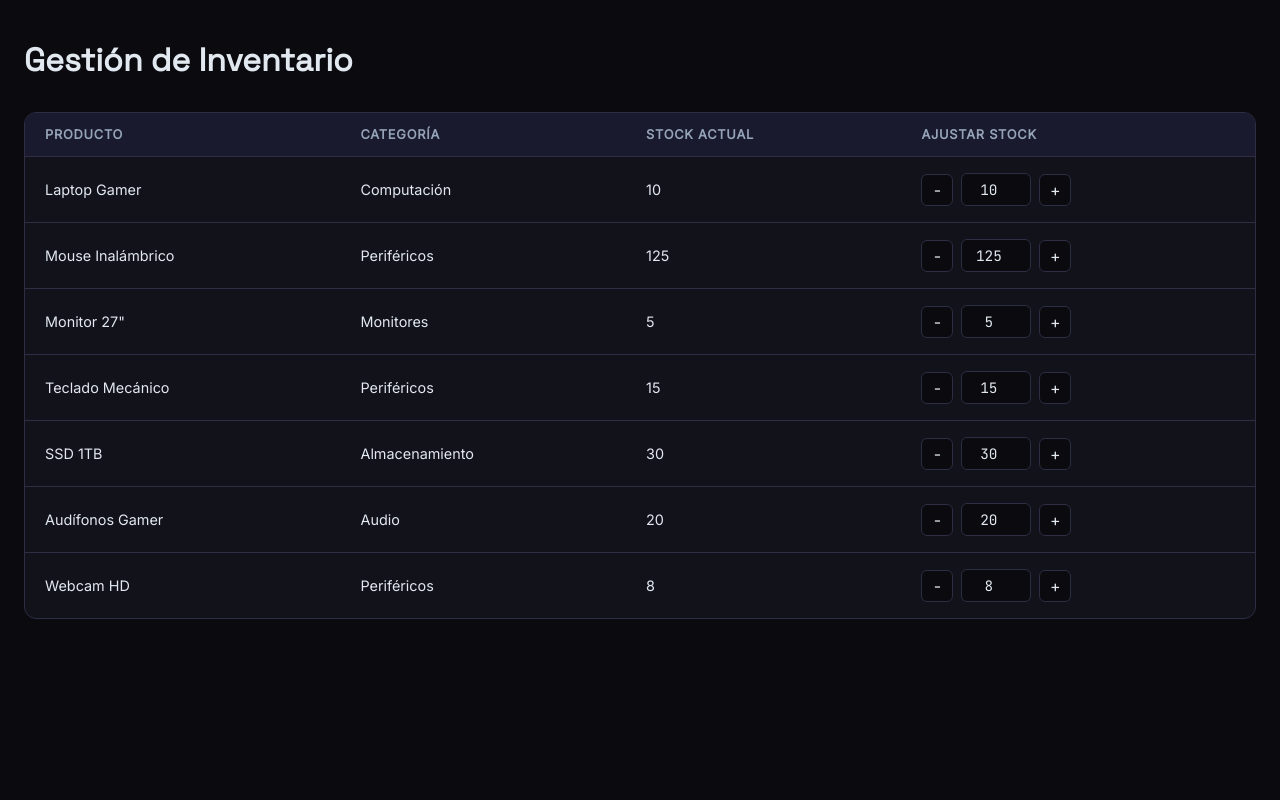
HU-ADMIN-04 · Gestión de Inventario › CA4: controles se deshabilitan mientras se actualiza
Click the button with test id "btn-incrementar-1" at (1055, 190), box [1039,174,1071,206]
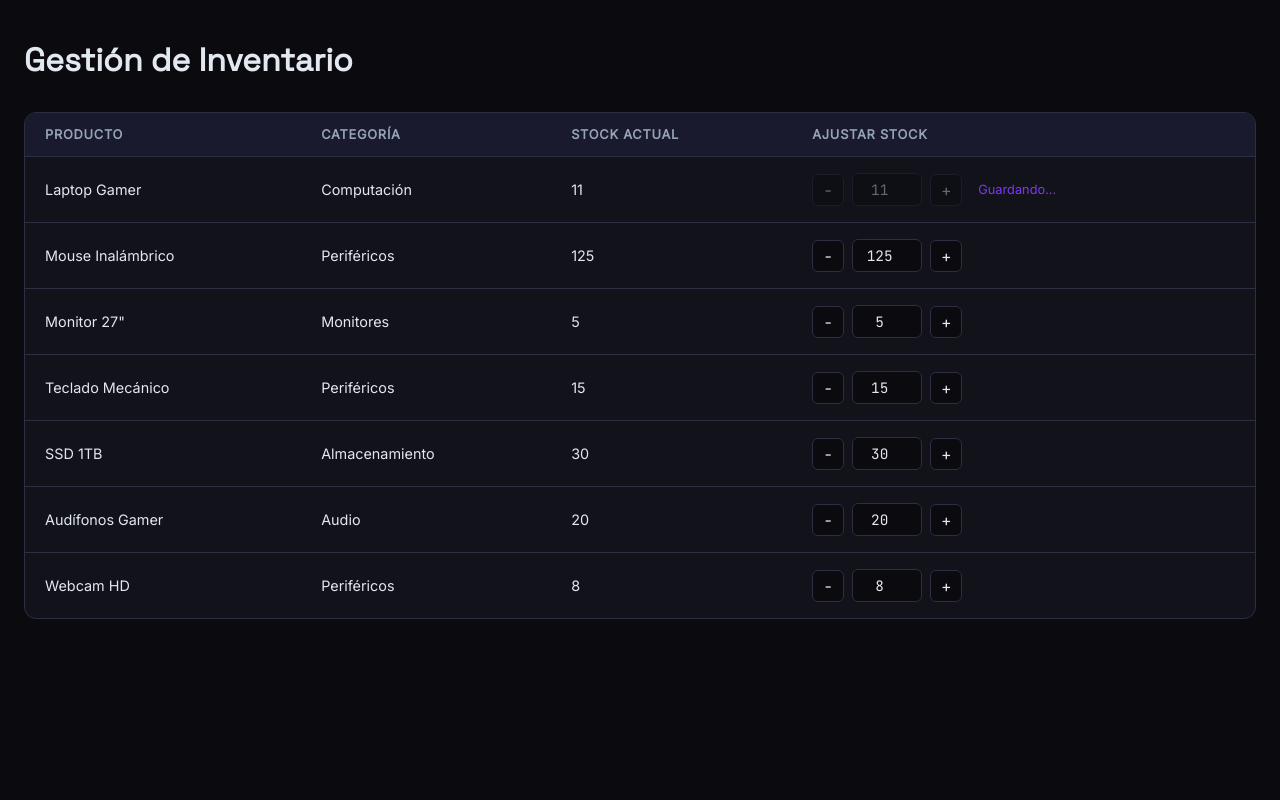
expect the button with test id "btn-decrementar-1" is disabled: met, box [812,174,844,206]
expect the button with test id "btn-incrementar-1" is disabled: met, box [930,174,962,206]
expect the number field with test id "input-stock-1" is disabled: met, box [852,173,922,206]
